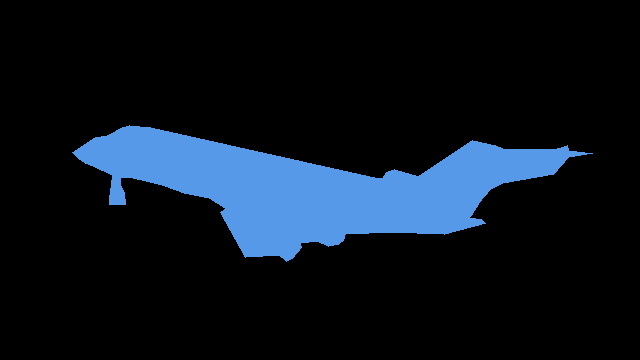Airplane: (72, 125, 593, 262)
